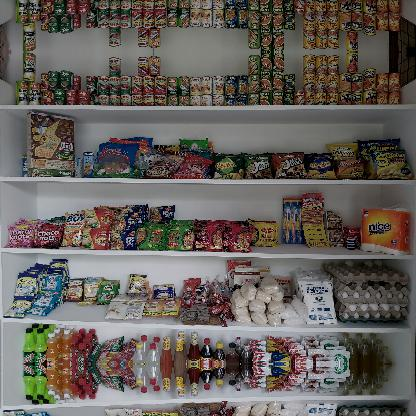Koko-Krunch: (26, 111, 74, 177)
